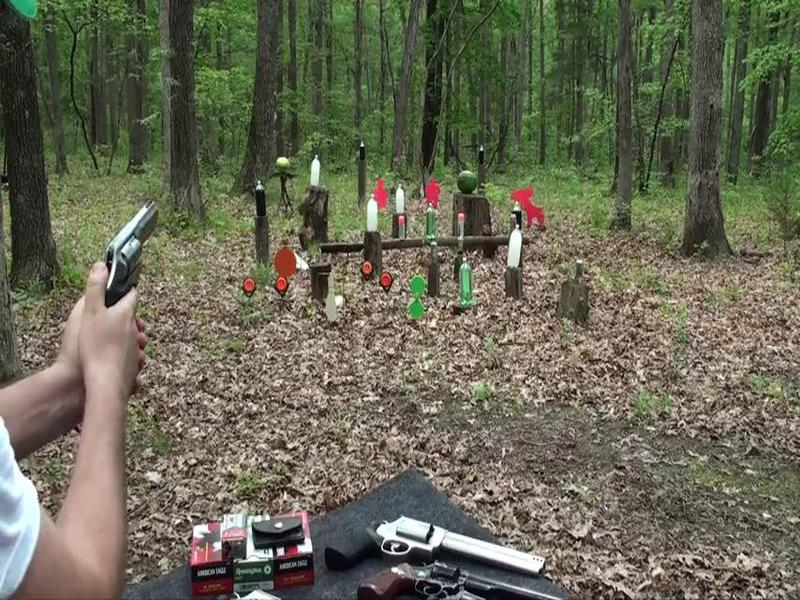Revolver: (91, 185, 159, 338)
